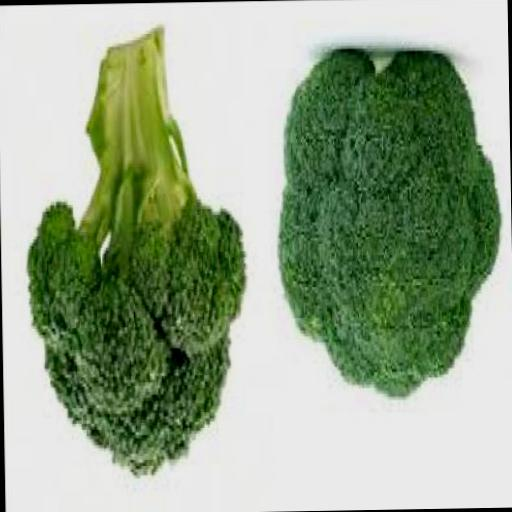biodegradable: (16, 24, 246, 492), (272, 51, 501, 407)
